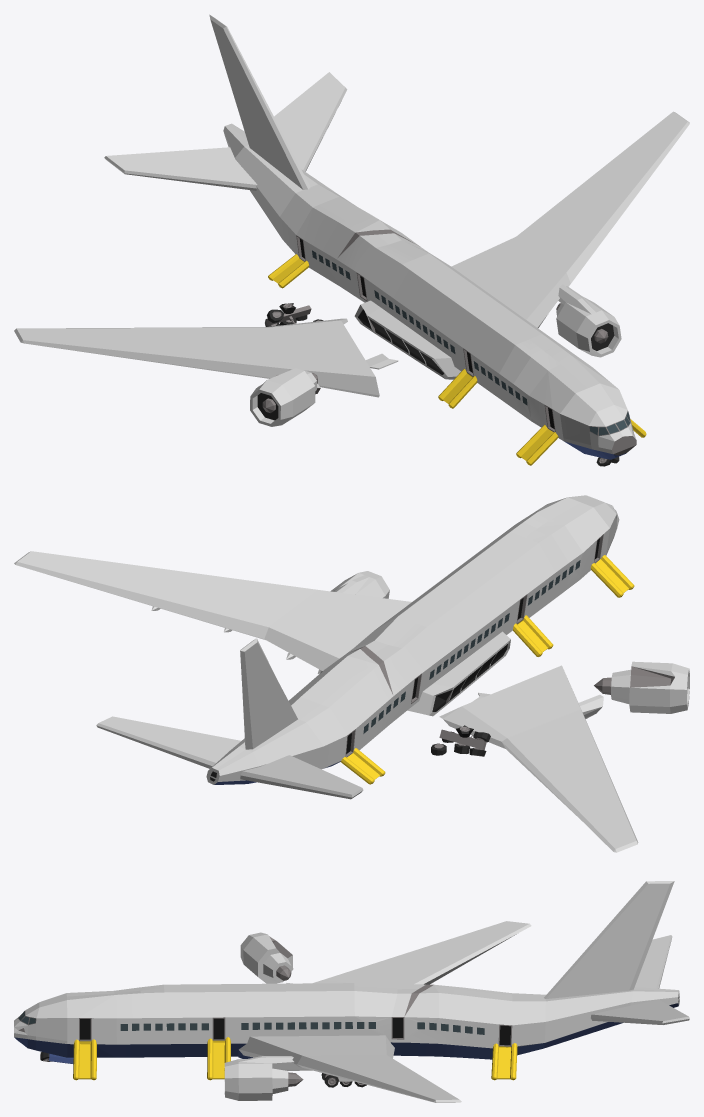
File: apocalypse_plane-passenger-apocalypse.fbx
3 renders of one model, top to bottom at view 1: azimuth 30°, elevation 25°; view 2: azimuth 150°, elevation 25°; view 3: azimuth 270°, elevation 25°, orthographic. The views are drawn at different scales.
Parts seen in each view (by area): view 1: plane_passenger_apocalypse_plane_passenger_apocalypse_base, plane_passenger_apocalypse_plane_passenger_apocalypse_props; view 2: plane_passenger_apocalypse_plane_passenger_apocalypse_base, plane_passenger_apocalypse_plane_passenger_apocalypse_props; view 3: plane_passenger_apocalypse_plane_passenger_apocalypse_base, plane_passenger_apocalypse_plane_passenger_apocalypse_props.
Part boxes in pixels (<box>): plane_passenger_apocalypse_plane_passenger_apocalypse_base: <box>104,14,689,466</box>; plane_passenger_apocalypse_plane_passenger_apocalypse_props: <box>14,254,646,465</box>; plane_passenger_apocalypse_plane_passenger_apocalypse_base: <box>14,495,619,799</box>; plane_passenger_apocalypse_plane_passenger_apocalypse_props: <box>341,555,689,852</box>; plane_passenger_apocalypse_plane_passenger_apocalypse_base: <box>14,881,689,1102</box>; plane_passenger_apocalypse_plane_passenger_apocalypse_props: <box>73,921,531,1080</box>.
Size of the model in its own units: 185 by 54.35 by 200.
